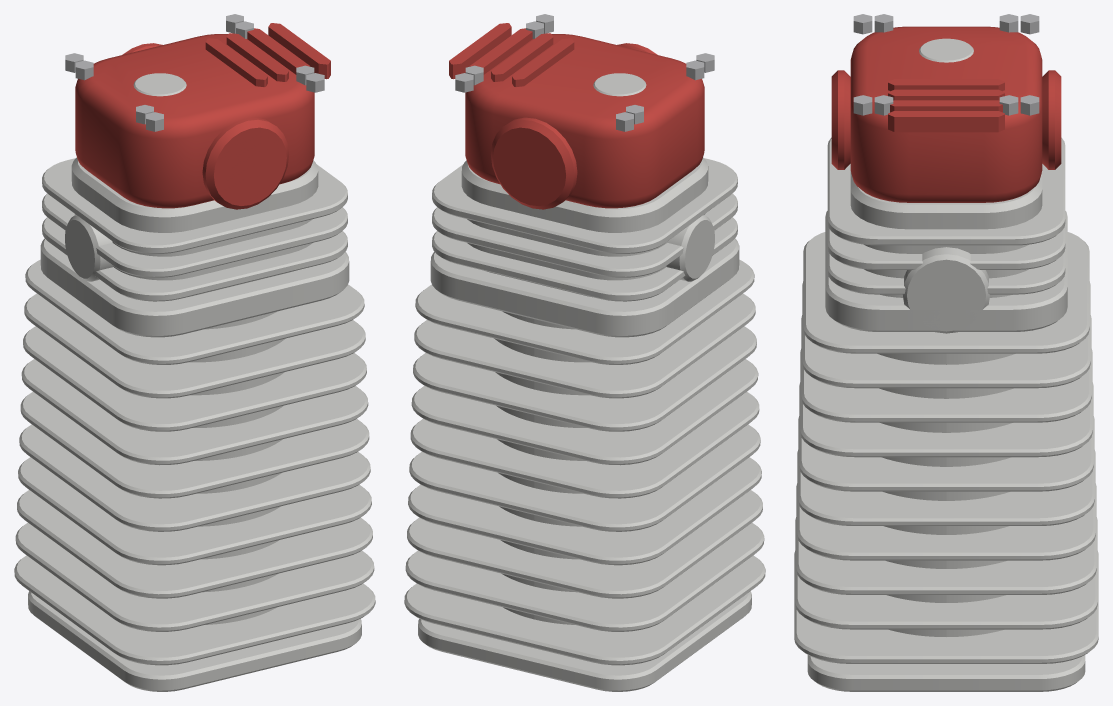
The model's file is hot_cam_1.glb.
3 views of the same model, side by side, from view 1: azimuth 30°, elevation 25°; view 2: azimuth 150°, elevation 25°; view 3: azimuth 270°, elevation 25° (orthographic). The views are drawn at different scales.
Visible parts, largest first — view 1: hot_cam_1; view 2: hot_cam_1; view 3: hot_cam_1.
Boxes of the visible parts, box(x1,y1,x2,y2) form: hot_cam_1: box(14, 14, 375, 691); hot_cam_1: box(404, 14, 765, 691); hot_cam_1: box(794, 14, 1098, 691).
Bounding box in the file's own units: 0.146 × 0.3043 × 0.146.
